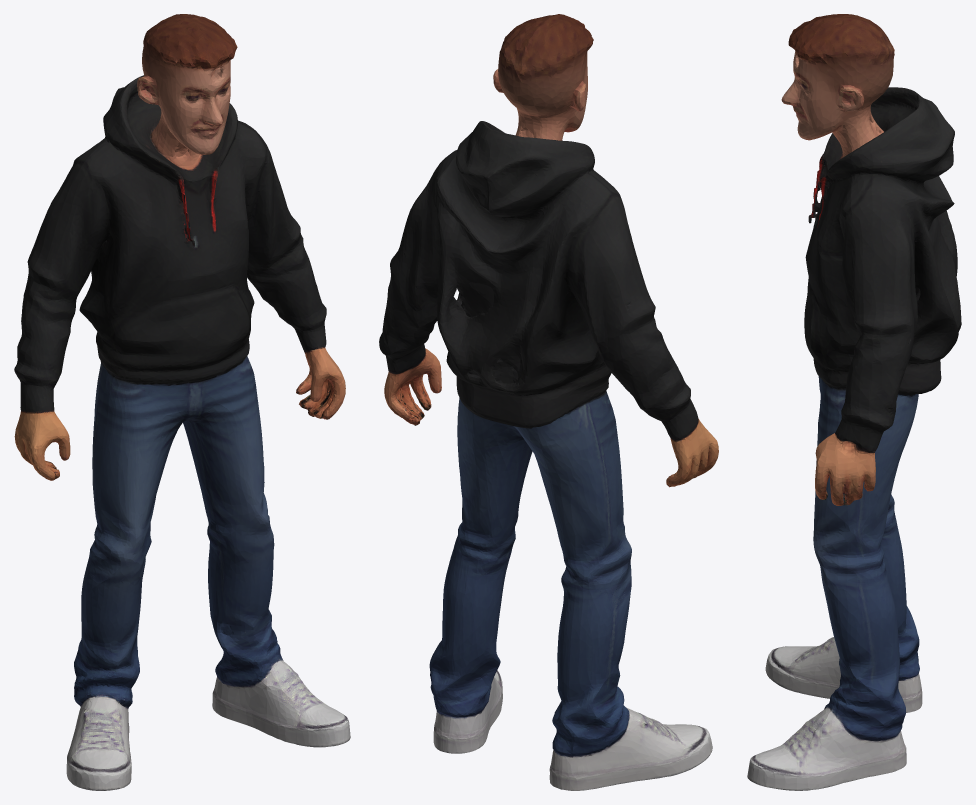
File: alex-hoodie-trellis-fein.glb
The picture shows the model from 3 angles, left to right: view 1: azimuth 30°, elevation 25°; view 2: azimuth 150°, elevation 25°; view 3: azimuth 270°, elevation 25°; orthographic projection.
Parts seen in each view (by area): view 1: world; view 2: world; view 3: world.
Boxes of the visible parts, bbox=[...] form: world: bbox=[14, 14, 350, 790]; world: bbox=[379, 14, 718, 790]; world: bbox=[747, 14, 961, 790].
Size of the model in its own units: 0.4575 by 1 by 0.2719.
1 material, 1 textured.
